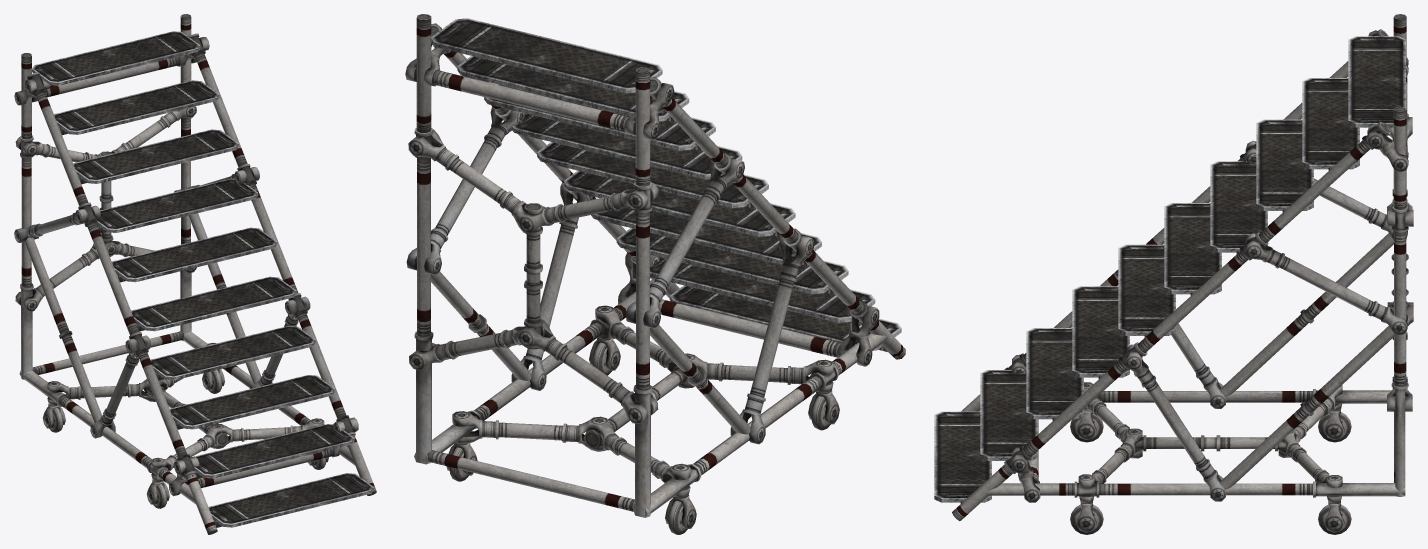
File: 02_05_staircase_rolling.dae
The picture shows the model from 3 angles, left to right: view 1: azimuth 30°, elevation 25°; view 2: azimuth 150°, elevation 25°; view 3: azimuth 270°, elevation 25°; orthographic projection. The views are drawn at different scales.
Parts seen in each view (by area): view 1: steps, frame; view 2: frame, steps; view 3: steps, frame.
Part boxes in pixels (left/top/right/bottom): steps: left=32, top=31, right=373, bottom=527; frame: left=14, top=14, right=376, bottom=534; frame: left=405, top=14, right=905, bottom=517; steps: left=430, top=18, right=901, bottom=350; steps: left=934, top=36, right=1405, bottom=502; frame: left=952, top=14, right=1413, bottom=520.
Size of the model in its own units: 2.14 by 4.08 by 4.17.
